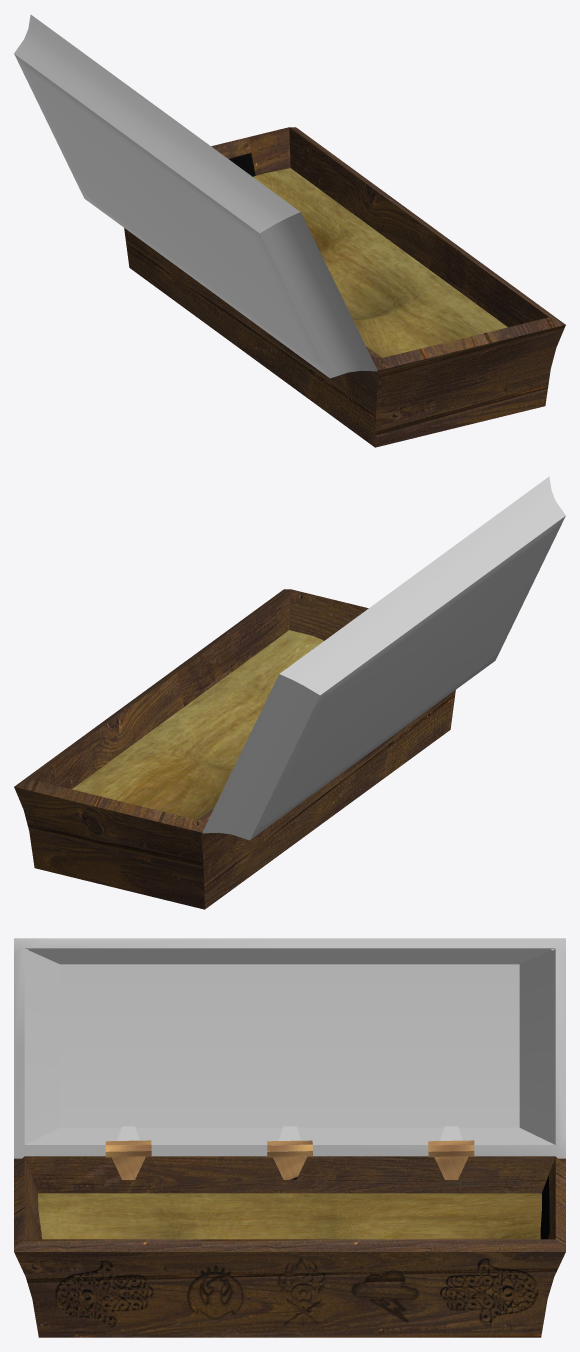
Rendered from Chest5.fbx.
The picture shows the model from 3 angles, top to bottom: view 1: azimuth 30°, elevation 25°; view 2: azimuth 150°, elevation 25°; view 3: azimuth 270°, elevation 25°; orthographic projection. The views are drawn at different scales.
Parts seen in each view (by area): view 1: pCube4, pCube1, pCube2; view 2: pCube4, pCube1, pCube2; view 3: pCube4, pCube1, pCube2, pCylinder2, pCylinder3, pCylinder1, pCube8, pCube10, pCube5.
Part boxes in pixels (x1,y1,x2,y2): pCube4: (14, 14, 377, 378); pCube1: (124, 127, 565, 447); pCube2: (253, 168, 507, 357); pCube4: (202, 476, 565, 840); pCube1: (14, 589, 455, 909); pCube2: (72, 630, 323, 819); pCube4: (14, 938, 565, 1158); pCube1: (14, 1156, 565, 1337); pCube2: (38, 1193, 541, 1239); pCylinder2: (105, 1140, 151, 1157); pCylinder3: (428, 1140, 474, 1157); pCylinder1: (267, 1140, 312, 1157); pCube8: (111, 1156, 145, 1179); pCube10: (434, 1156, 468, 1179); pCube5: (273, 1156, 307, 1179).
Bounding box in the file's own units: 32.25 × 28.18 × 51.31.
